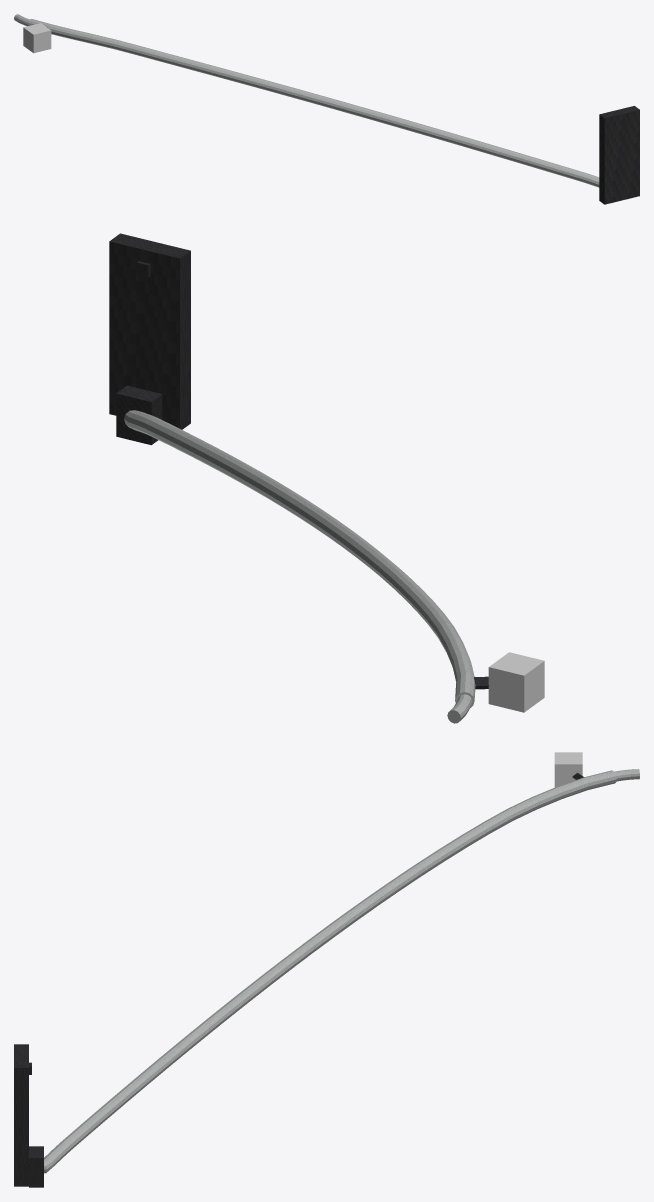
Rendered from arm_5_left_left.obj.
3 views of the same model, one above another, from view 1: azimuth 30°, elevation 25°; view 2: azimuth 150°, elevation 25°; view 3: azimuth 270°, elevation 25° (orthographic). The views are drawn at different scales.
Visible parts, largest first — view 1: pole_light_mount_5_left_left; view 2: pole_light_mount_5_left_left; view 3: pole_light_mount_5_left_left.
Boxes of the visible parts, x1,y1,x2,y2 form: pole_light_mount_5_left_left: (14,14,639,204); pole_light_mount_5_left_left: (109,233,544,723); pole_light_mount_5_left_left: (14,752,639,1187).
Bounding box in the file's own units: 4.34 × 1.24 × 4.19.
